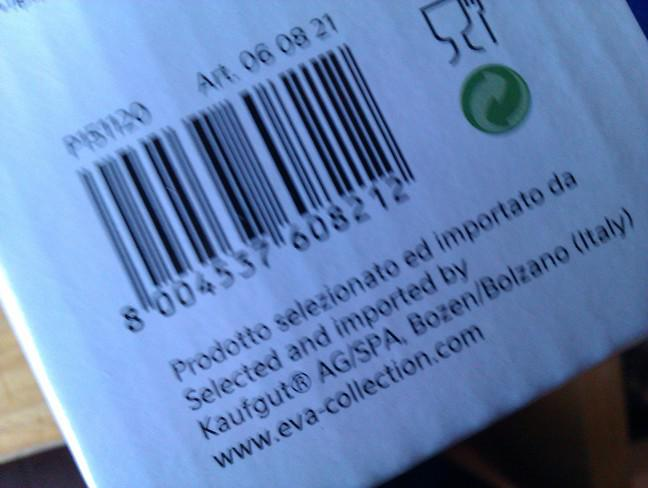Barkod: (39, 28, 443, 344)
